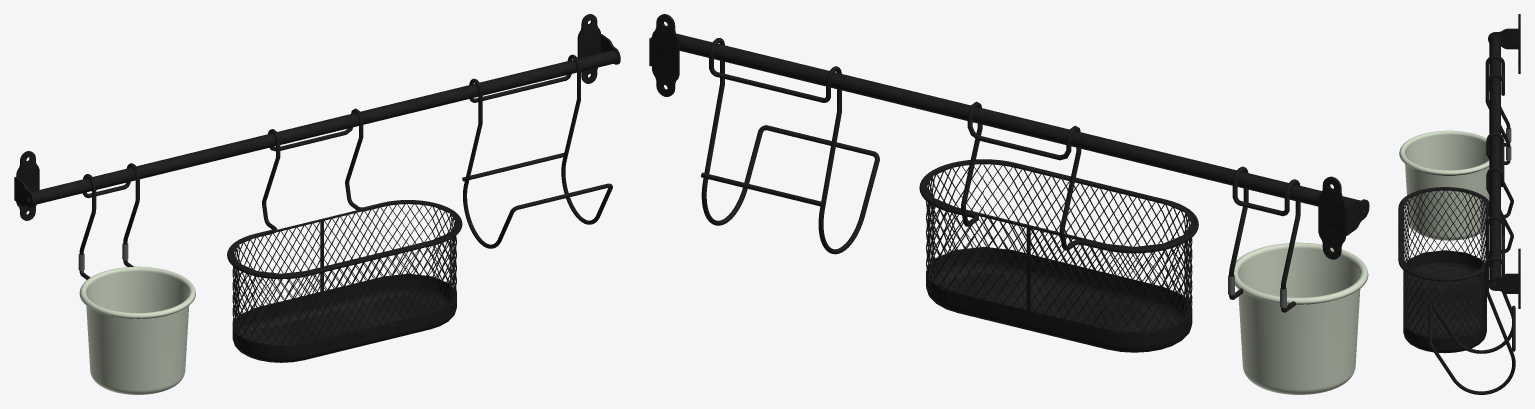
The model's file is 071 - stand divari jadid meshki goldan sabz.glb.
3 views of the same model, side by side, from view 1: azimuth 30°, elevation 25°; view 2: azimuth 150°, elevation 25°; view 3: azimuth 270°, elevation 25° (orthographic). The views are drawn at different scales.
Parts seen in each view (by area): view 1: Group#30 [162670], Group#8 [77350], Group#17 [77349], Group#6 [162695], Group#14 [200487], Group#28 [162681], [128988], Group#25 [162683], [74724], [75607]; view 2: Group#30 [162670], Group#8 [77350], Group#17 [77349], Group#6 [162695], Group#14 [200487], Group#28 [162681], [128988], [74724], [75607], Group#25 [162683], Group#15 [200486], Group#2 [76143]; view 3: Group#30 [162670], Group#17 [77349], Group#8 [77350], Group#6 [162695], Group#14 [200487], Group#28 [162681], [128988], Group#25 [162683], Group#3 [75260], Group#2 [76143], Group#15 [200486], [75607].
Boxes of the visible parts, x1,y1,x2,y2 form: Group#30 [162670]: (79,266,195,394); Group#8 [77350]: (232,202,456,346); Group#17 [77349]: (232,274,456,362); Group#6 [162695]: (32,50,617,204); Group#14 [200487]: (463,54,612,248); Group#28 [162681]: (227,108,462,279); [128988]: (79,163,171,318); Group#25 [162683]: (230,201,458,274); [74724]: (577,14,600,83); [75607]: (16,151,39,220); Group#30 [162670]: (1234,242,1368,394); Group#8 [77350]: (926,161,1192,333); Group#17 [77349]: (926,248,1192,352); Group#6 [162695]: (676,33,1360,206); Group#14 [200487]: (701,38,879,254); Group#28 [162681]: (919,101,1198,253); [128988]: (1229,166,1323,312); [74724]: (652,14,679,96); [75607]: (1318,176,1345,259); Group#25 [162683]: (923,160,1194,248); Group#15 [200486]: (701,172,824,206); Group#2 [76143]: (1344,199,1369,235); Group#30 [162670]: (1399,130,1489,240); Group#17 [77349]: (1403,251,1486,353); Group#8 [77350]: (1403,188,1486,339); Group#6 [162695]: (1489,34,1500,285); Group#14 [200487]: (1428,216,1515,394); Group#28 [162681]: (1398,132,1513,281); [128988]: (1414,55,1510,175); Group#25 [162683]: (1401,188,1488,277); Group#3 [75260]: (1488,273,1520,293); Group#2 [76143]: (1488,28,1518,49); Group#15 [200486]: (1512,305,1515,351); [75607]: (1518,14,1520,73).
Bounding box in the file's own units: 0.806 × 0.2792 × 0.1691.
4 materials, 2 textured.
